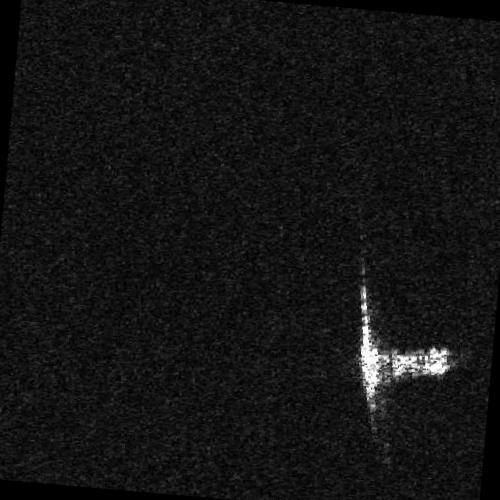ship: (360, 349, 462, 384)
